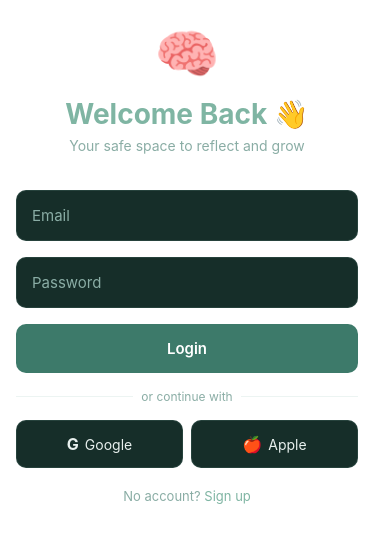
Test: LoginScreen › shows error message on failure
Type "test@test.com" into the field with placeholder "Email". click: [187, 216]
box: [16,190,358,241]
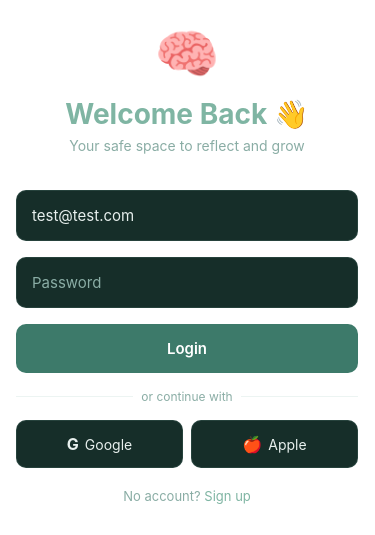
Type "badpass" into the password field with placeholder "Password". click: [187, 282]
box: [16,257,358,308]
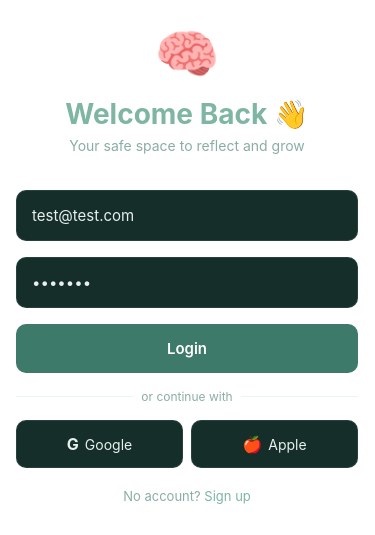
Click the text "Login". click: [187, 348]
box: [167,339,207,358]
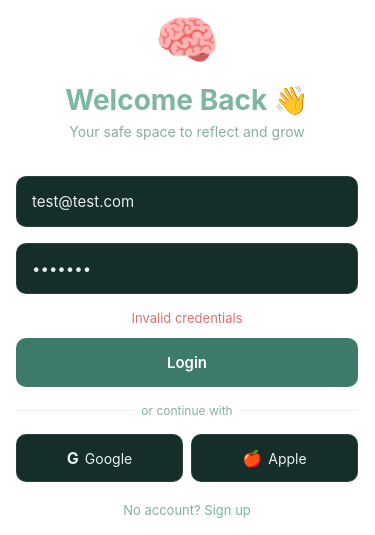
Now the text "Invalid credentials" is shown, box [132,310,243,326]
